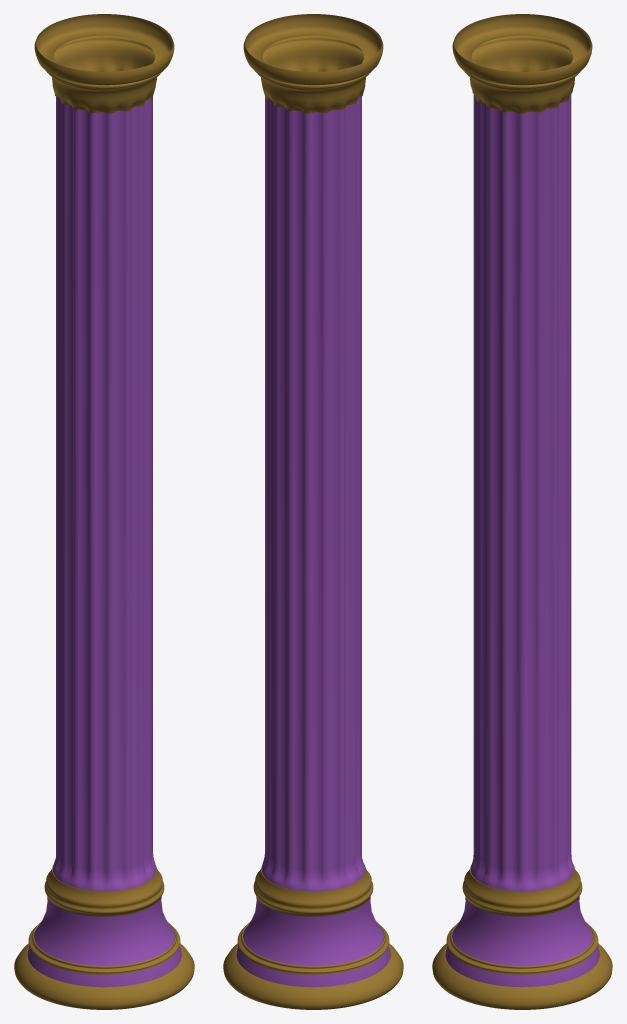
Rendered from Large Column.FBX.
3 renders of one model, left to right at view 1: azimuth 30°, elevation 25°; view 2: azimuth 150°, elevation 25°; view 3: azimuth 270°, elevation 25°, orthographic.
Visible parts, largest first — view 1: Column3_mid_Cylinder_014; view 2: Column3_mid_Cylinder_014; view 3: Column3_mid_Cylinder_014.
Part boxes in pixels (<box>): Column3_mid_Cylinder_014: <box>14,14,194,1009</box>; Column3_mid_Cylinder_014: <box>223,14,403,1009</box>; Column3_mid_Cylinder_014: <box>432,14,612,1009</box>.
Bounding box in the file's own units: 5.22 × 29.69 × 5.22.
